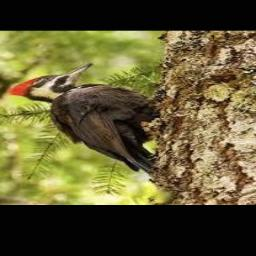Woodpecker: (9, 63, 161, 174)
